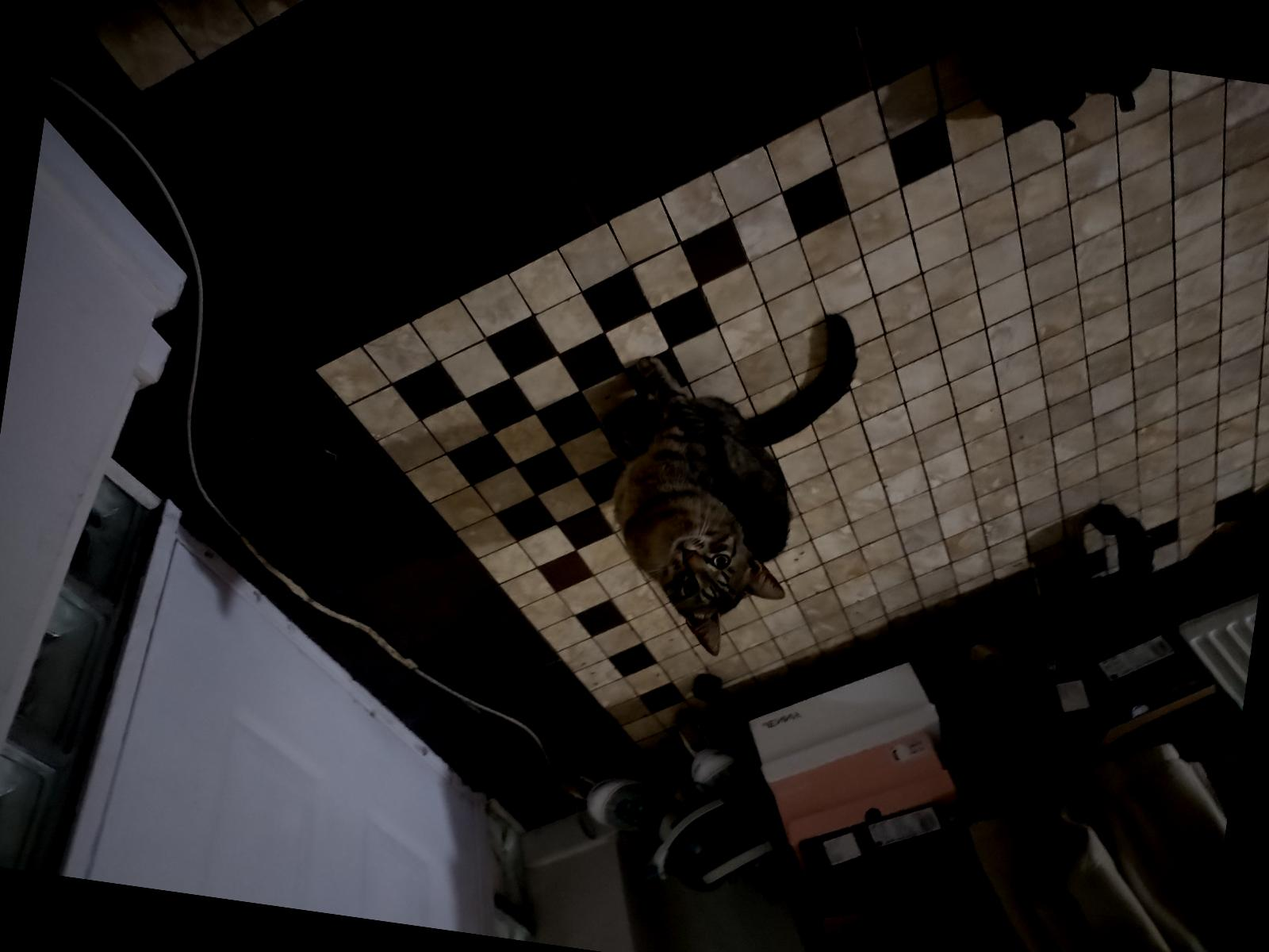macka: (573, 280, 869, 673)
